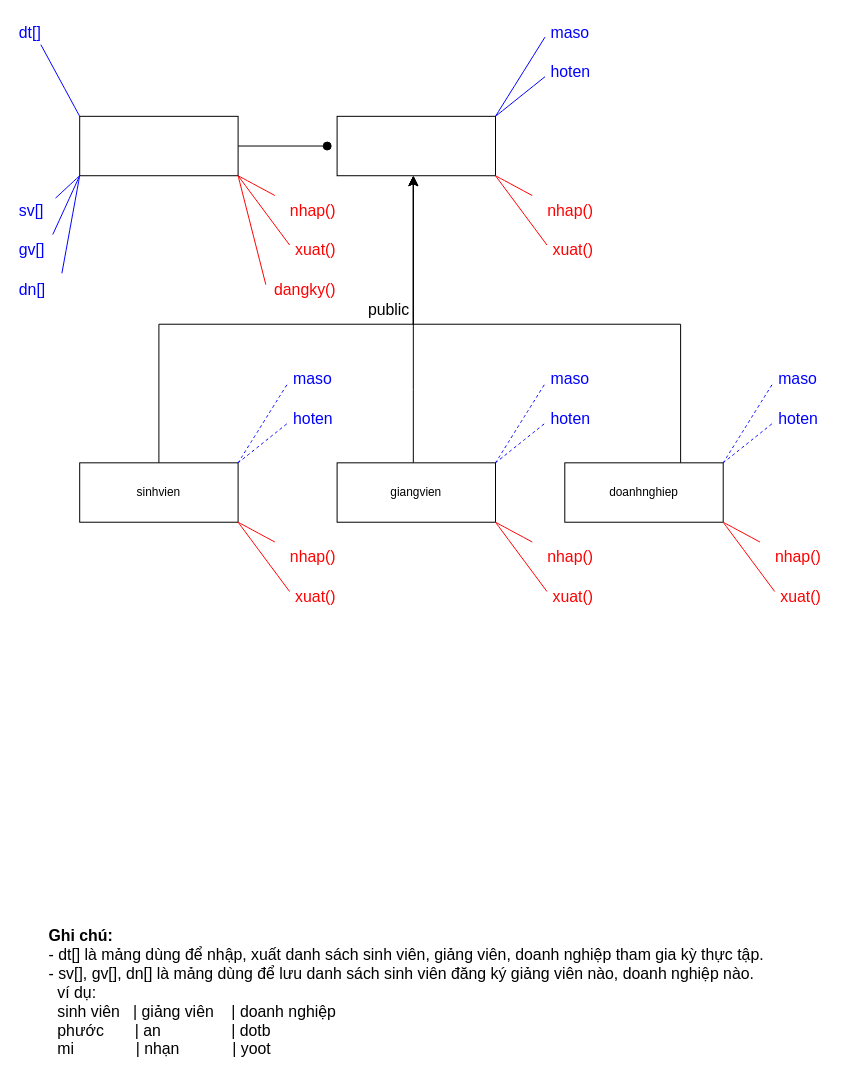
The diagram is 852 pixels wide and 1083 high, and some of its shapes have lost their labels. Here are the shapes that lost their labels. From the top down, the centre of each, then its label:
At (158,145): "daihoctaichinhmarketing".
At (415,145): "doituong".
